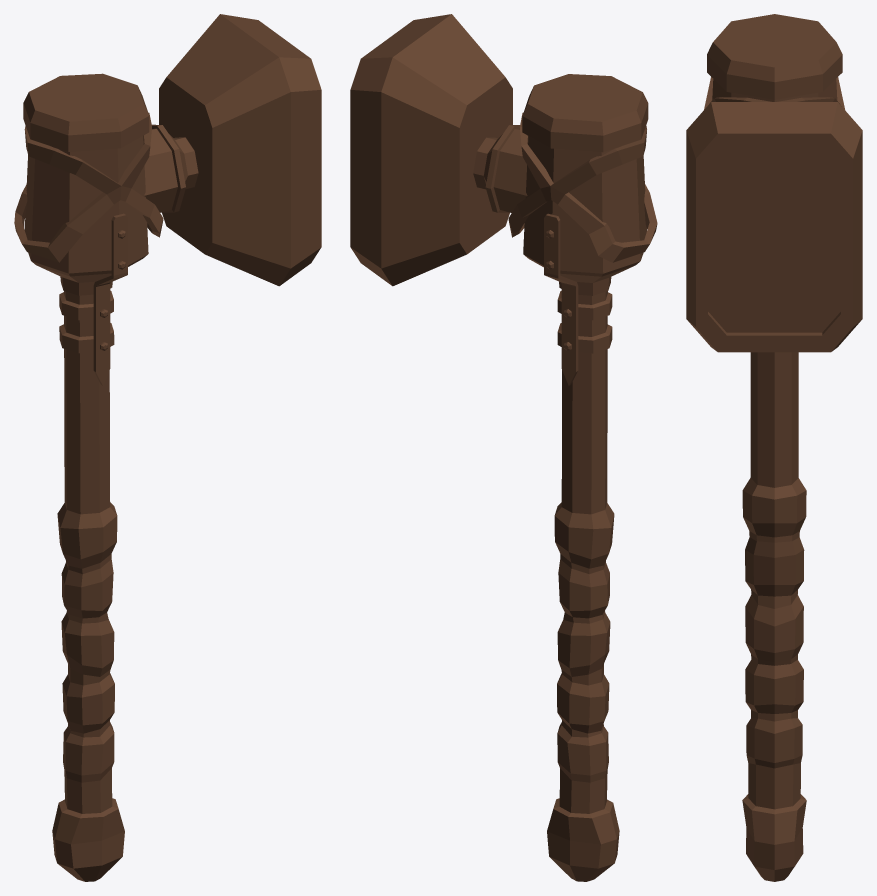
File: Hammer_Small.glb
The picture shows the model from 3 angles, left to right: view 1: azimuth 30°, elevation 25°; view 2: azimuth 150°, elevation 25°; view 3: azimuth 270°, elevation 25°; orthographic projection. The views are drawn at different scales.
Size of the model in its own units: 1.49 by 4.33 by 0.8057.
